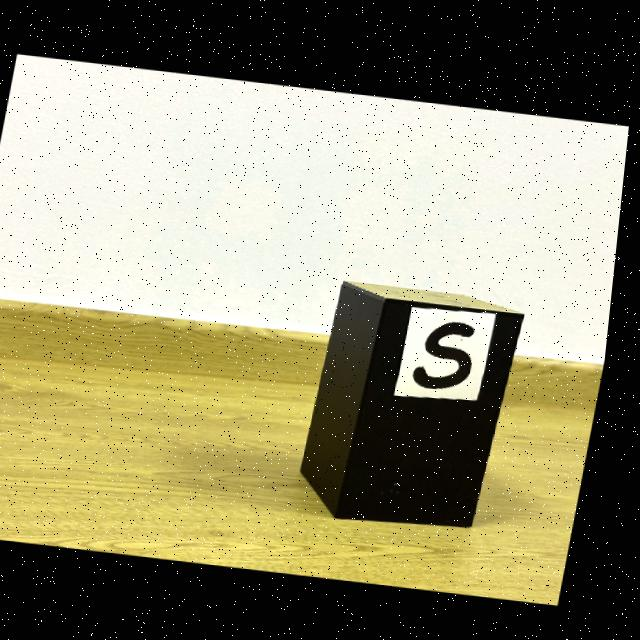S: (420, 319, 481, 386)
